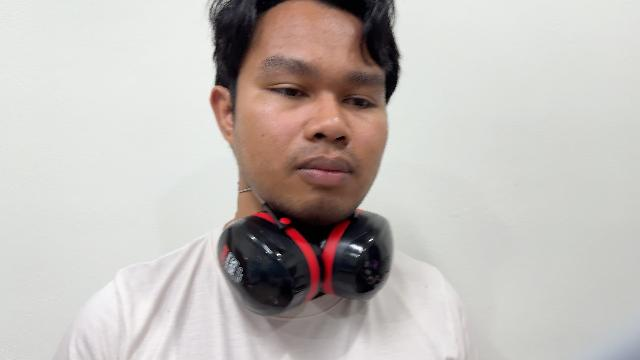headphones: (218, 202, 392, 315)
right_ear: (210, 85, 234, 148)
